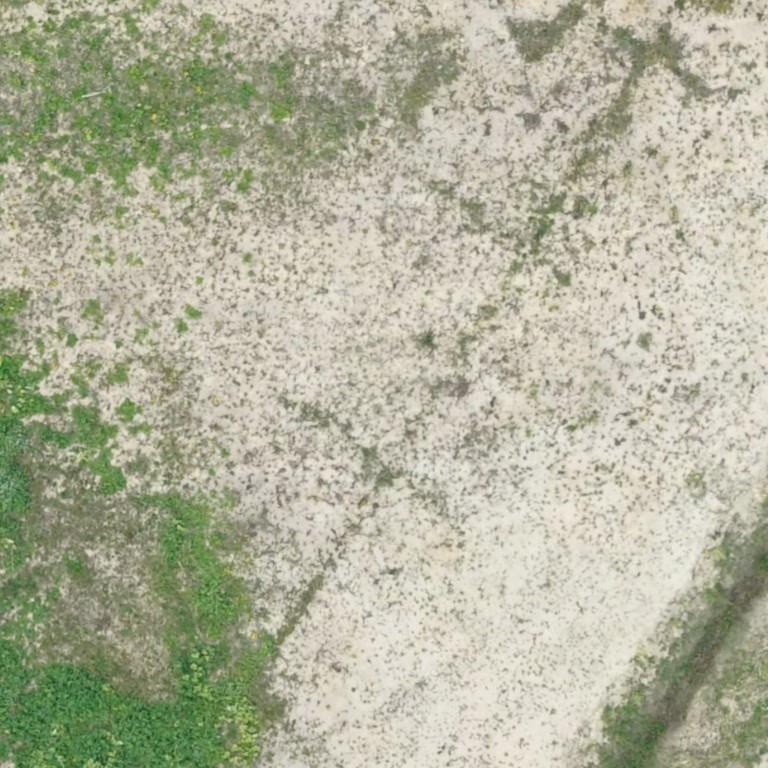hogweed: (0, 643, 222, 767)
